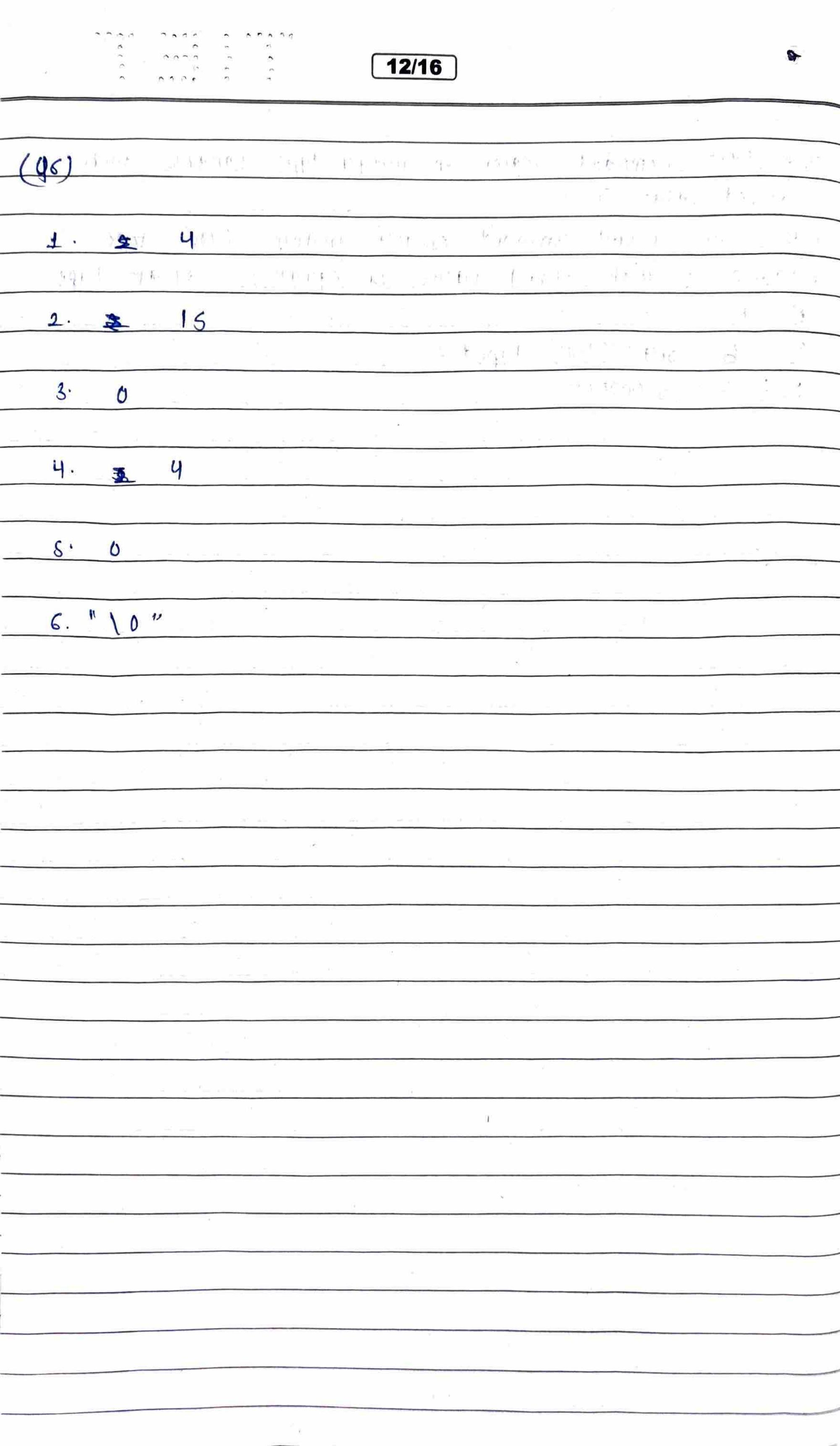cuttings: (102, 312, 130, 332), (113, 233, 138, 251), (111, 467, 137, 484)
